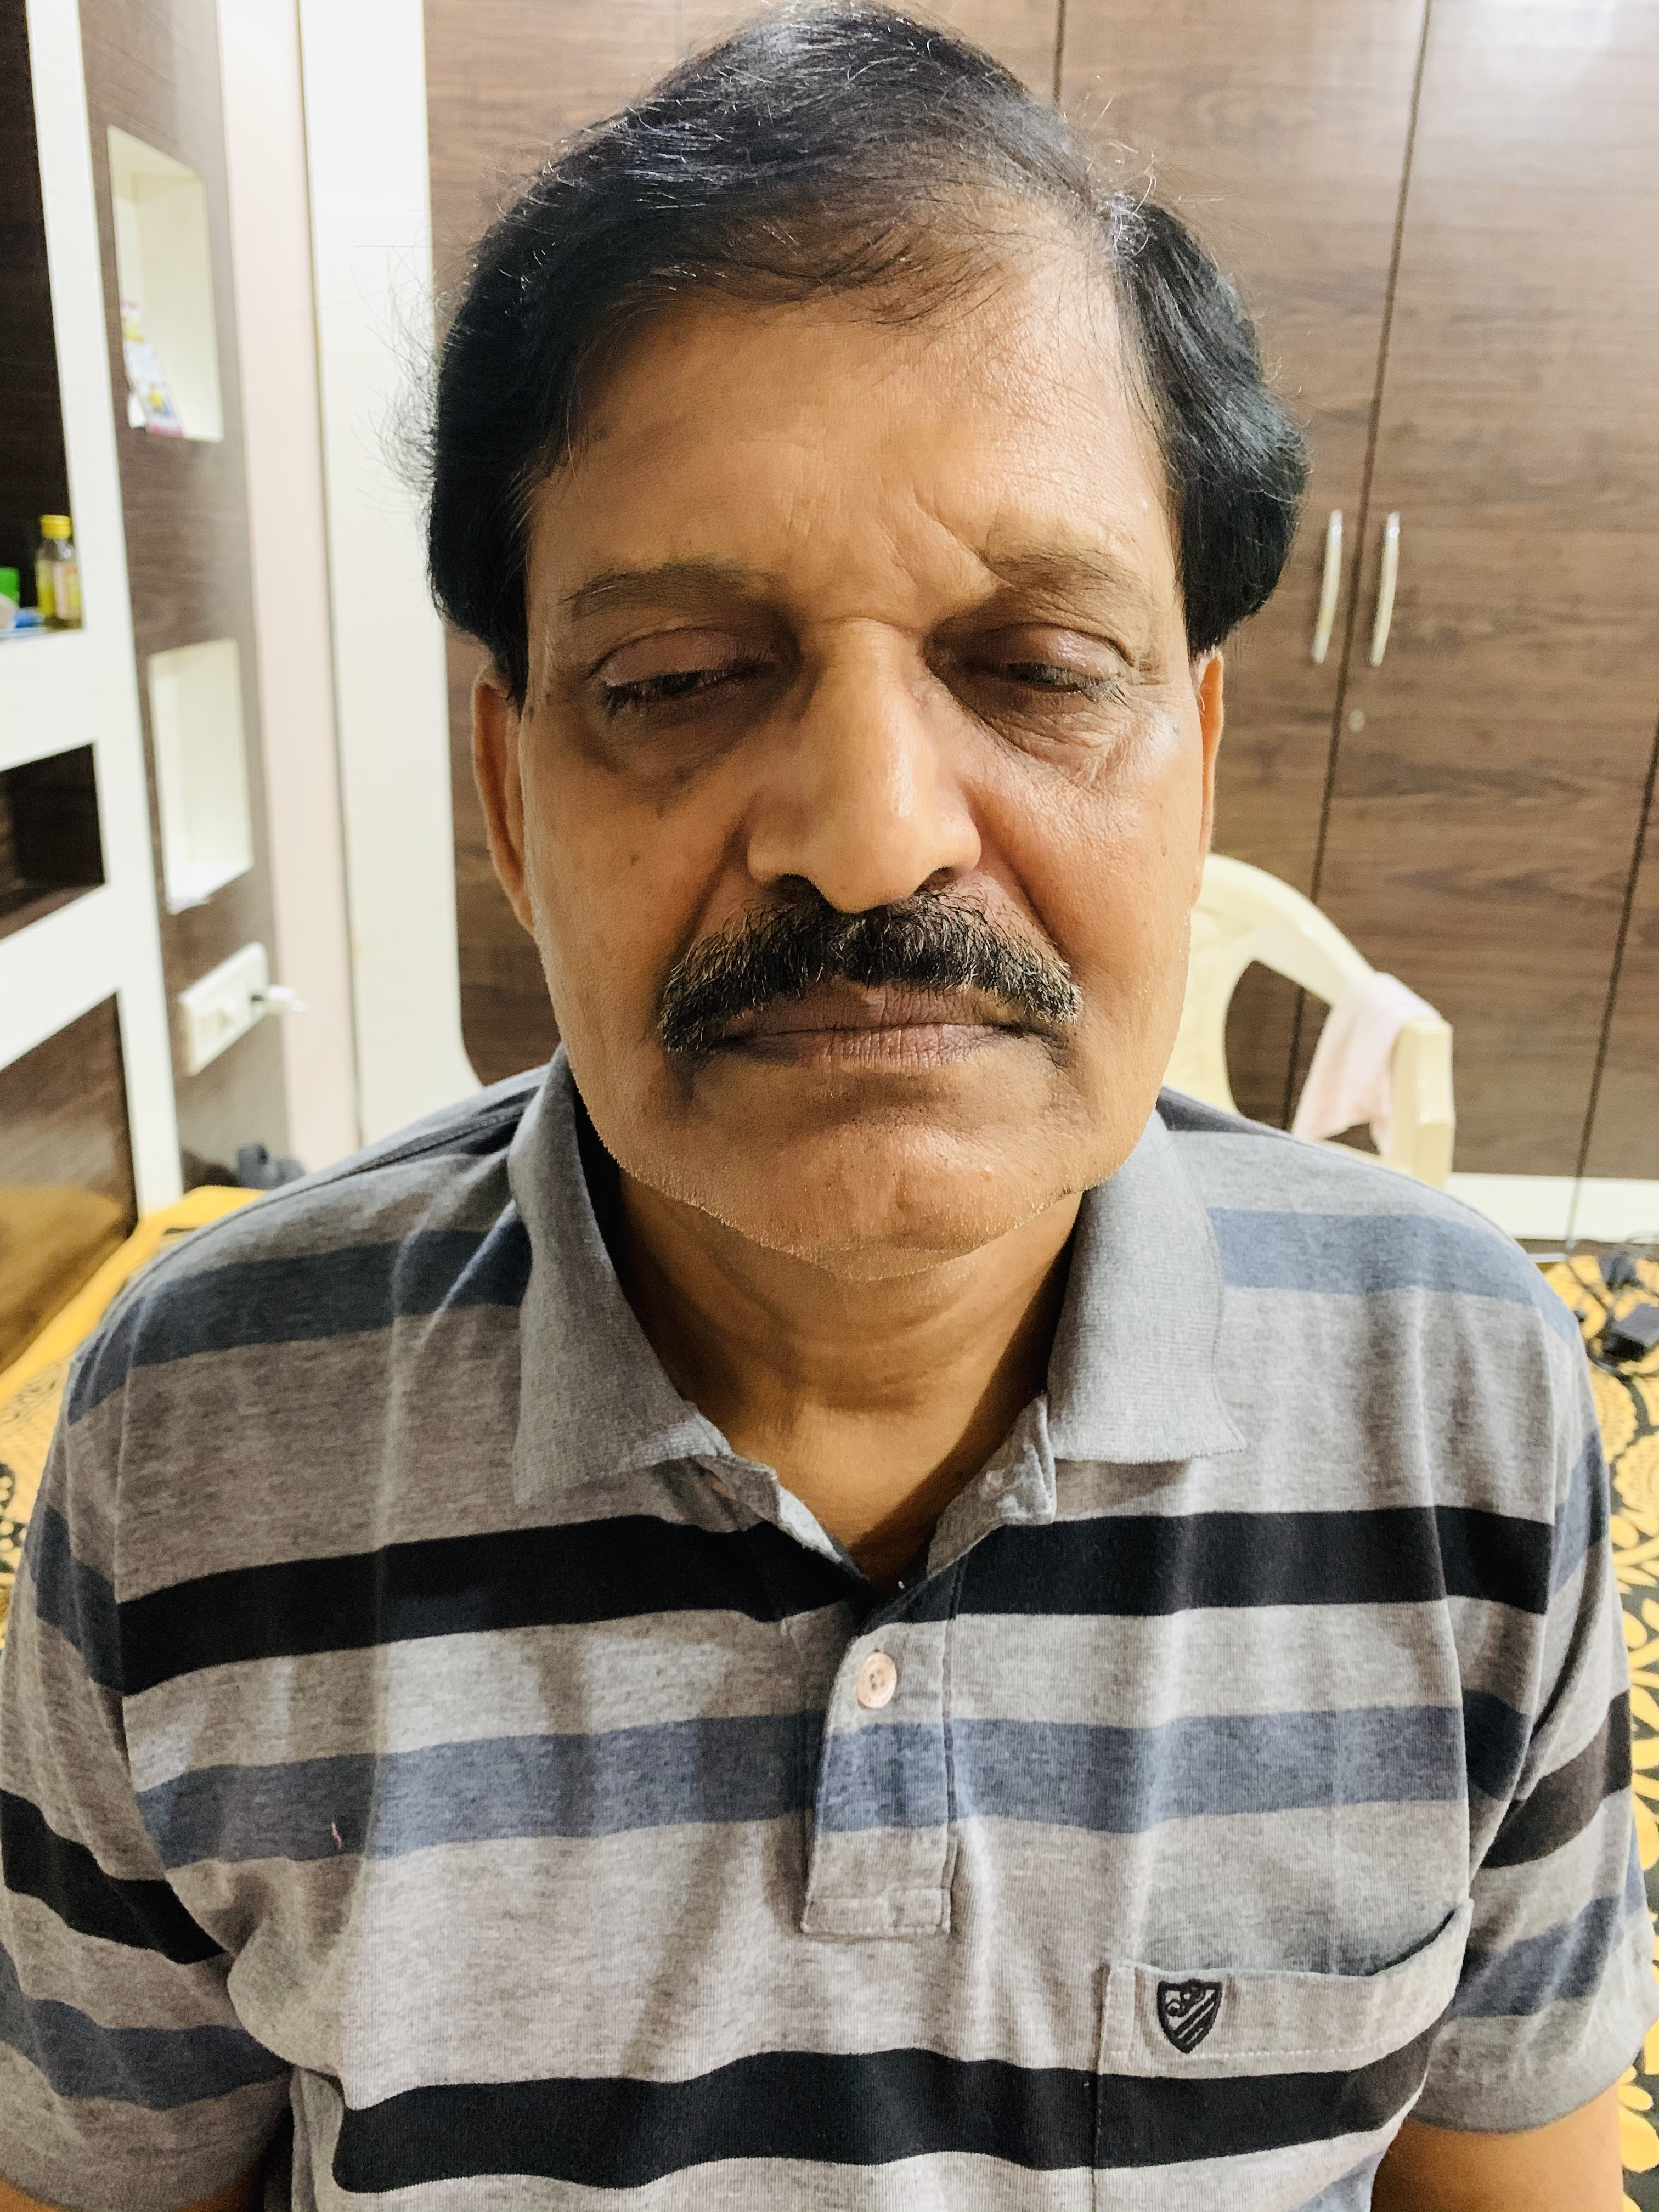Half Asleep: (549, 589, 1147, 761)
